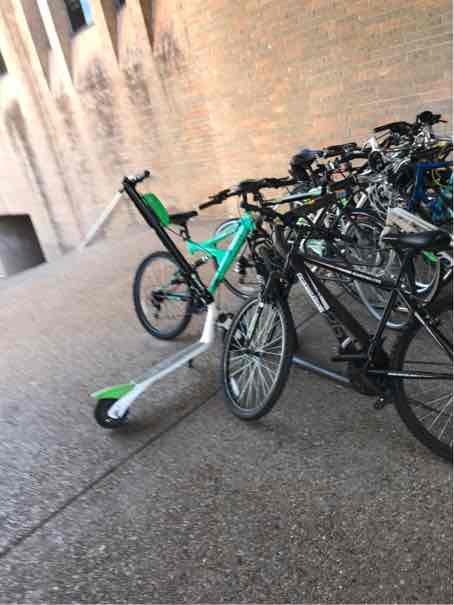scooter: (71, 152, 254, 439)
